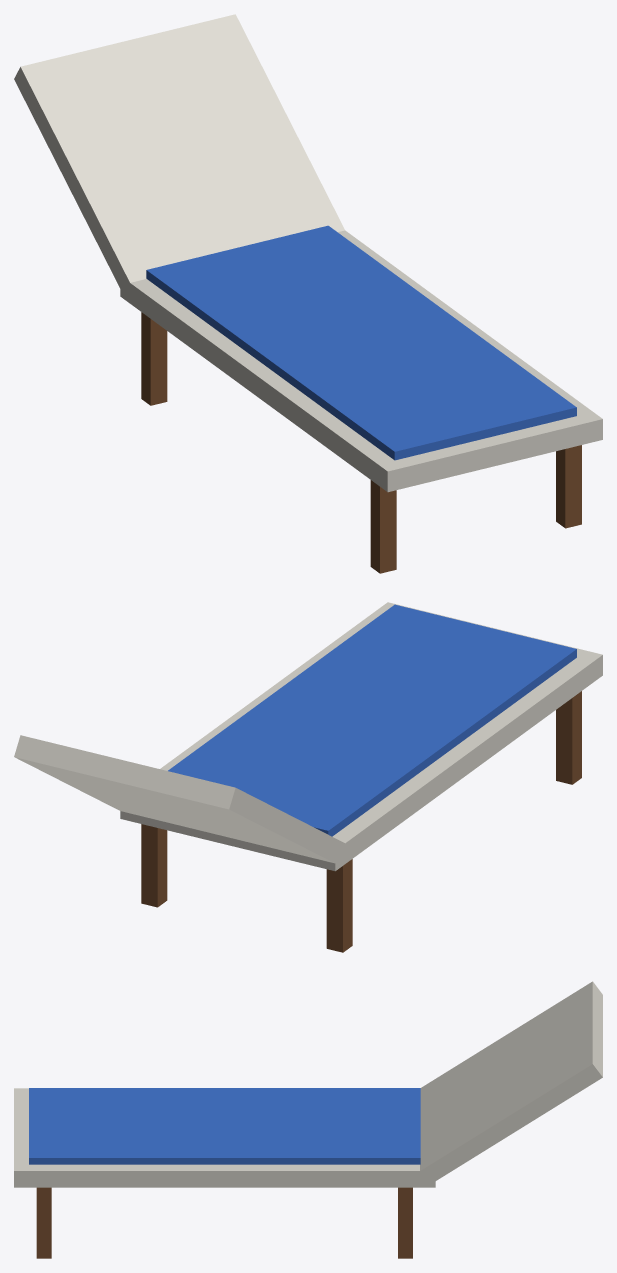
Rendered from sunbed.glb.
3 renders of one model, top to bottom at view 1: azimuth 30°, elevation 25°; view 2: azimuth 150°, elevation 25°; view 3: azimuth 270°, elevation 25°, orthographic. The views are drawn at different scales.
Parts seen in each view (by area): view 1: sunbed_Body; view 2: sunbed_Body; view 3: sunbed_Body.
Boxes of the visible parts, x1=… form: sunbed_Body: x1=14, y1=14, x2=602, y2=573; sunbed_Body: x1=14, y1=602, x2=602, y2=952; sunbed_Body: x1=14, y1=981, x2=602, y2=1258.
Bounding box in the file's own units: 0.65 × 0.7224 × 1.96.
